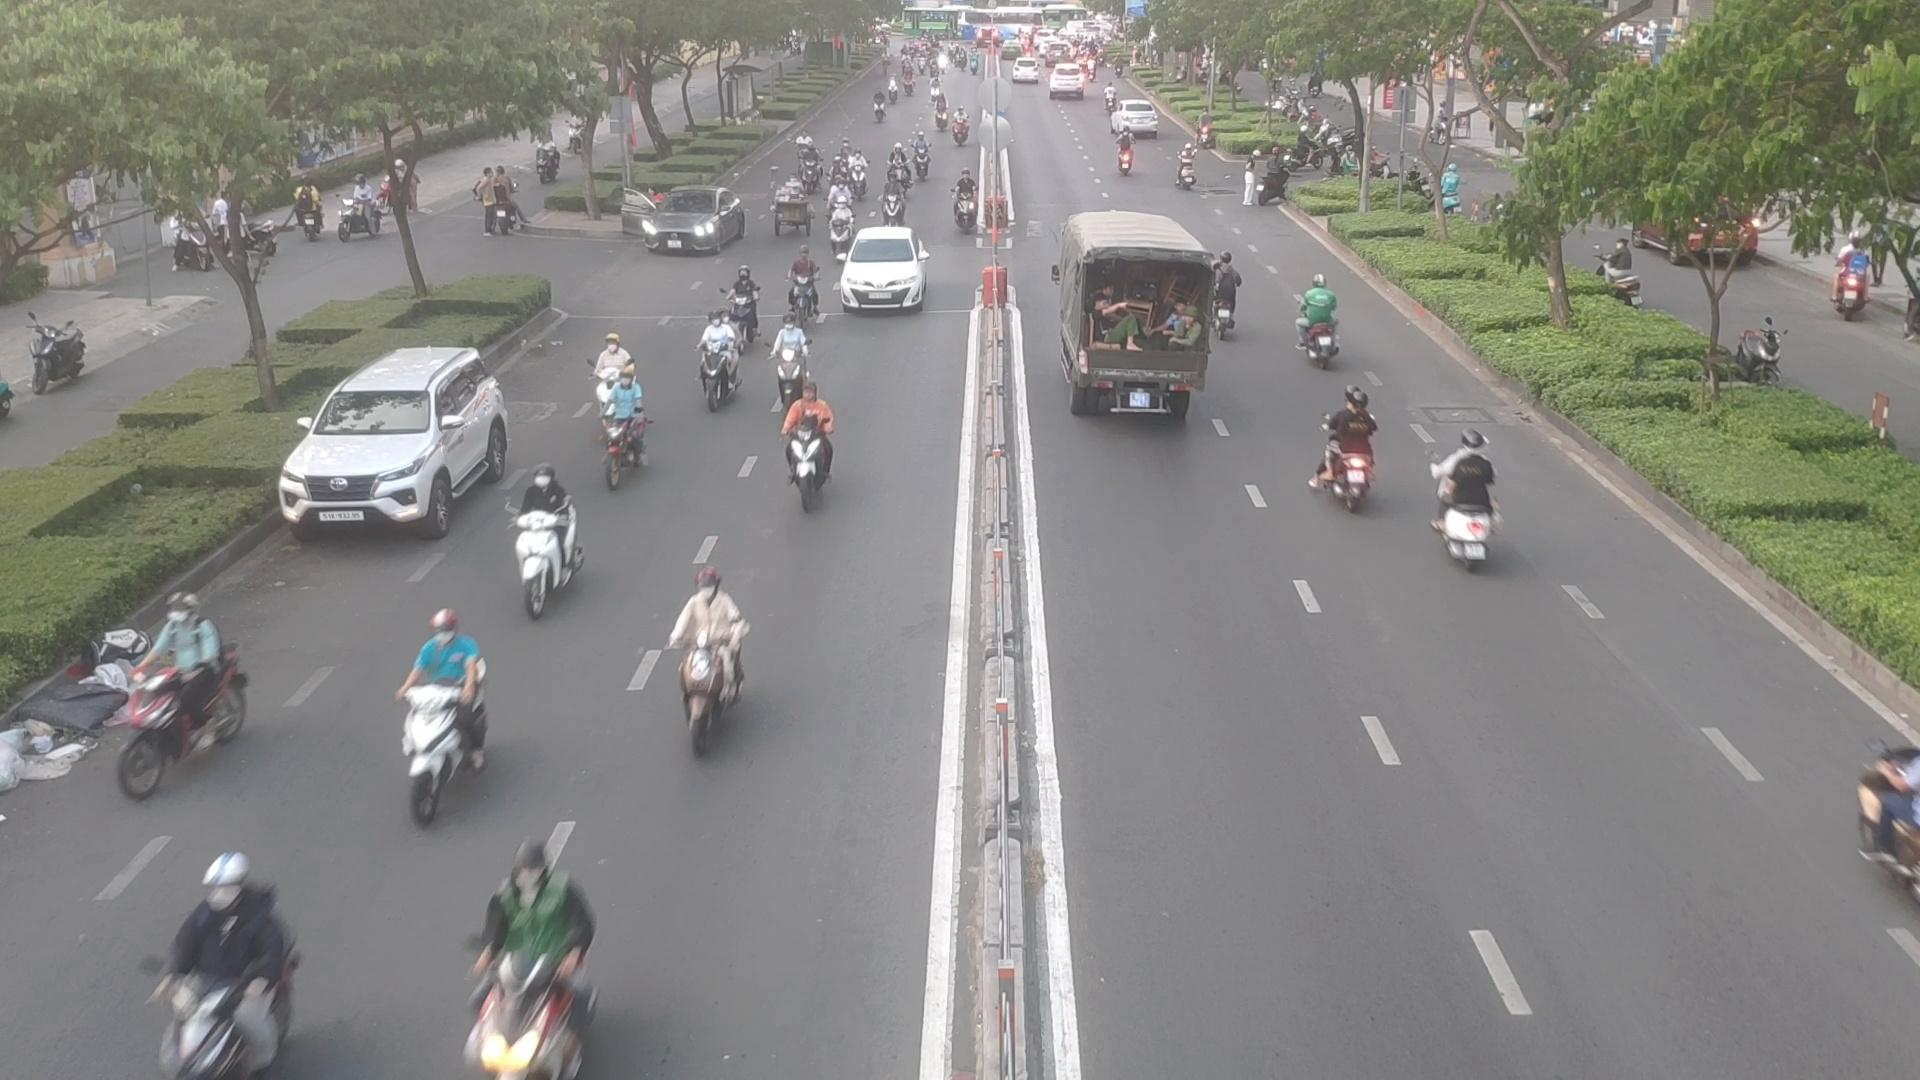car: (286, 351, 524, 542), (621, 191, 752, 258), (836, 232, 928, 315)
motorbike: (476, 841, 605, 1076), (157, 862, 298, 1076), (102, 593, 251, 789), (630, 568, 756, 760), (382, 618, 495, 811), (505, 469, 603, 613), (1855, 735, 1920, 914), (1427, 436, 1505, 563), (777, 392, 852, 514), (1305, 394, 1381, 504), (592, 375, 653, 489), (1291, 278, 1356, 367), (694, 322, 746, 411), (774, 309, 808, 400), (717, 273, 760, 340), (789, 257, 827, 328), (1216, 247, 1247, 330), (779, 193, 815, 243), (1171, 148, 1200, 193), (1106, 137, 1139, 175), (884, 152, 913, 191), (876, 185, 903, 224), (802, 154, 828, 193), (913, 144, 938, 182)
